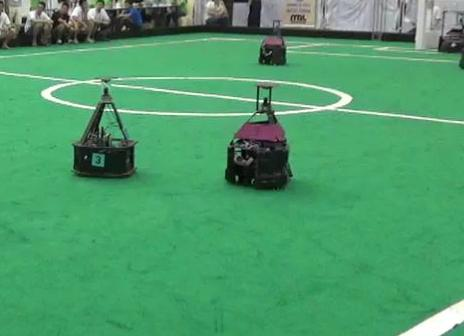robot: (222, 81, 295, 192), (69, 74, 140, 180), (256, 18, 293, 67)
